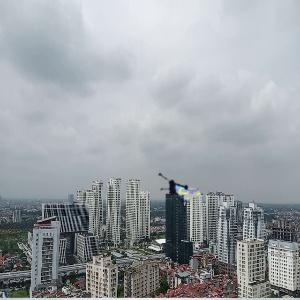drone: (151, 163, 197, 209)
